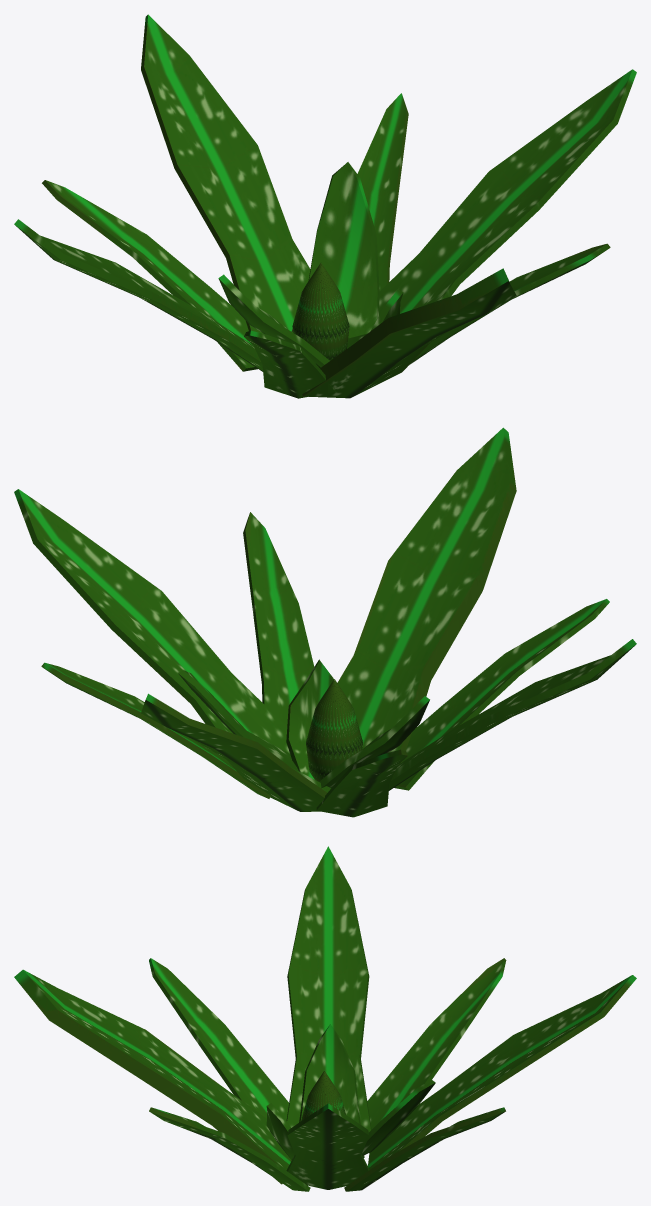
The model's file is aloe_vera.glb.
The picture shows the model from 3 angles, top to bottom: view 1: azimuth 30°, elevation 25°; view 2: azimuth 150°, elevation 25°; view 3: azimuth 270°, elevation 25°; orthographic projection. The views are drawn at different scales.
Parts seen in each view (by area): view 1: Plane121_Material #10_0, Plane122_Material #10_0, Plane8_Material #10_0, Plane018_Material #10_0, Plane1_Material #10_0, Plane123_Material #10_0, Plane5_Material #10_0, Plane6_Material #10_0, Plane2_Material #10_0, Plane019_Material #10_0, Plane0120_Material #10_0; view 2: Plane8_Material #10_0, Plane122_Material #10_0, Plane2_Material #10_0, Plane6_Material #10_0, Plane121_Material #10_0, Plane123_Material #10_0, Plane1_Material #10_0, Plane5_Material #10_0, Plane0120_Material #10_0, Plane019_Material #10_0, Plane018_Material #10_0; view 3: Plane123_Material #10_0, Plane8_Material #10_0, Plane121_Material #10_0, Plane6_Material #10_0, Plane1_Material #10_0, Plane122_Material #10_0, Plane019_Material #10_0, Plane5_Material #10_0, Plane2_Material #10_0, Plane018_Material #10_0, Plane0120_Material #10_0.
Boxes of the visible parts, x1,y1,x2,y2 form: Plane121_Material #10_0: (141, 14, 310, 333); Plane122_Material #10_0: (379, 69, 636, 315); Plane8_Material #10_0: (302, 268, 516, 398); Plane018_Material #10_0: (291, 162, 379, 338); Plane1_Material #10_0: (42, 180, 257, 371); Plane123_Material #10_0: (14, 219, 262, 371); Plane5_Material #10_0: (357, 93, 408, 290); Plane6_Material #10_0: (244, 330, 335, 398); Plane2_Material #10_0: (383, 243, 610, 379); Plane019_Material #10_0: (218, 274, 329, 367); Plane0120_Material #10_0: (347, 289, 403, 348); Plane8_Material #10_0: (337, 427, 516, 763); Plane122_Material #10_0: (14, 489, 289, 753); Plane2_Material #10_0: (243, 512, 314, 725); Plane6_Material #10_0: (394, 599, 609, 790); Plane121_Material #10_0: (141, 693, 327, 811); Plane123_Material #10_0: (389, 639, 636, 790); Plane1_Material #10_0: (316, 749, 407, 817); Plane5_Material #10_0: (41, 662, 270, 798); Plane0120_Material #10_0: (286, 659, 333, 779); Plane019_Material #10_0: (319, 696, 429, 788); Plane018_Material #10_0: (178, 670, 330, 792); Plane123_Material #10_0: (286, 846, 371, 1132); Plane8_Material #10_0: (14, 969, 291, 1184); Plane121_Material #10_0: (368, 975, 636, 1169); Plane6_Material #10_0: (149, 958, 288, 1120); Plane1_Material #10_0: (367, 958, 506, 1129); Plane122_Material #10_0: (286, 1103, 369, 1189); Plane019_Material #10_0: (299, 1024, 364, 1157); Plane5_Material #10_0: (344, 1107, 505, 1191); Plane2_Material #10_0: (149, 1107, 310, 1191); Plane018_Material #10_0: (362, 1079, 435, 1155); Plane0120_Material #10_0: (266, 1103, 294, 1159).
Size of the model in its own units: 105 by 39.03 by 106.
Materials: 1 (1 with a texture image).
